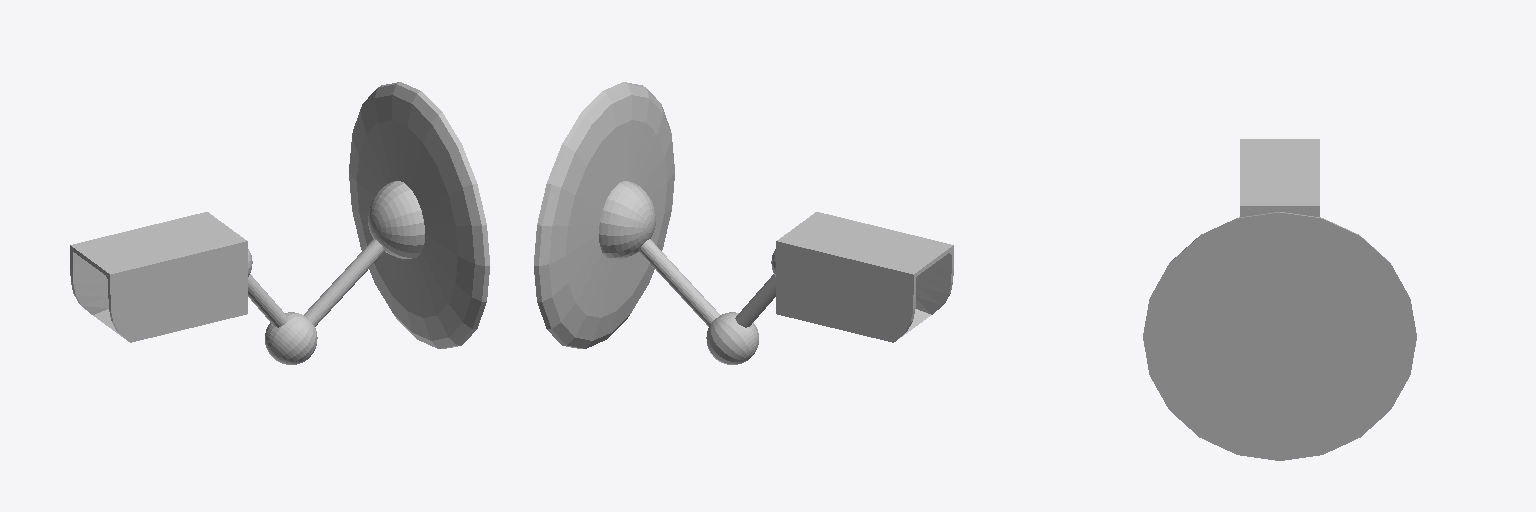
File: Camara2.obj
3 views of the same model, side by side, from view 1: azimuth 30°, elevation 25°; view 2: azimuth 150°, elevation 25°; view 3: azimuth 270°, elevation 25° (orthographic).
Parts seen in each view (by area): view 1: polySurface17, polySurface17 polySurface10 polySurface13 polySurface12 polySurf, polySurface17 polySurface10, polySurface17 polySurface10 polySurface13 polySurface12, polySurface17 polySurface10 polySurface13; view 2: polySurface17, polySurface17 polySurface10 polySurface13 polySurface12 polySurf, polySurface17 polySurface10, polySurface17 polySurface10 polySurface13 polySurface12, polySurface17 polySurface10 polySurface13; view 3: polySurface17, polySurface17 polySurface10 polySurface13 polySurface12 polySurf.
Boxes of the visible parts, box(x1,y1,x2,y2) form: polySurface17: box(349, 82, 489, 348); polySurface17 polySurface10 polySurface13 polySurface12 polySurf: box(70, 212, 288, 342); polySurface17 polySurface10: box(368, 181, 424, 258); polySurface17 polySurface10 polySurface13 polySurface12: box(265, 312, 317, 364); polySurface17 polySurface10 polySurface13: box(304, 239, 384, 326); polySurface17: box(534, 82, 674, 348); polySurface17 polySurface10 polySurface13 polySurface12 polySurf: box(735, 212, 953, 342); polySurface17 polySurface10: box(599, 181, 655, 258); polySurface17 polySurface10 polySurface13 polySurface12: box(706, 312, 758, 364); polySurface17 polySurface10 polySurface13: box(639, 239, 719, 326); polySurface17: box(1143, 212, 1416, 460); polySurface17 polySurface10 polySurface13 polySurface12 polySurf: box(1240, 139, 1319, 216).
Size of the model in its own units: 9.49 by 6.8 by 6.8.